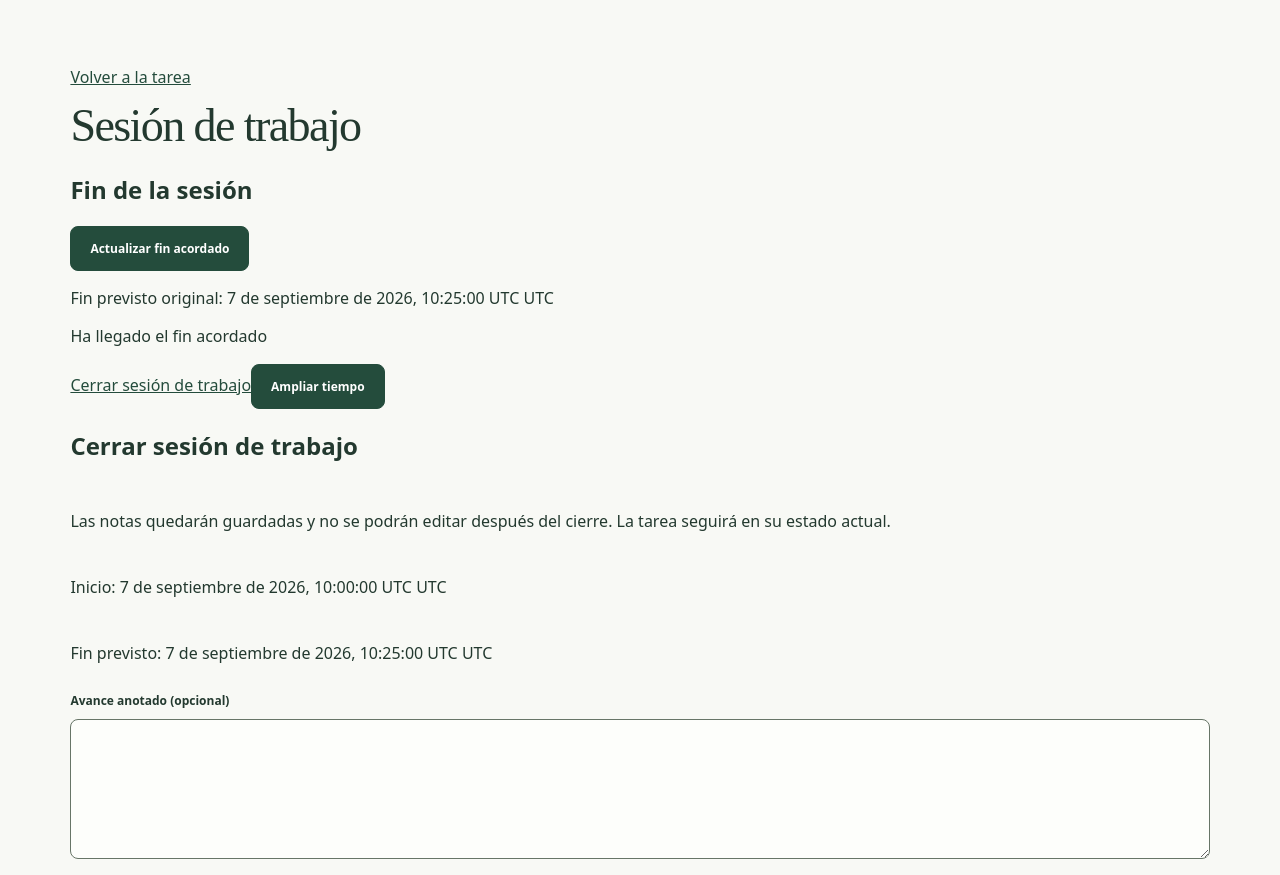
@s28 feature17 offers the end notice and a separate extension form on the known session route
Check: the text "Ha llegado el fin acordado" is shown, box [70,325,267,347]
Check: the heading "Fin de la sesión" is shown, box [70,173,253,206]
Click the button "Ampliar tiempo" at (318, 387), box [251,364,385,409]
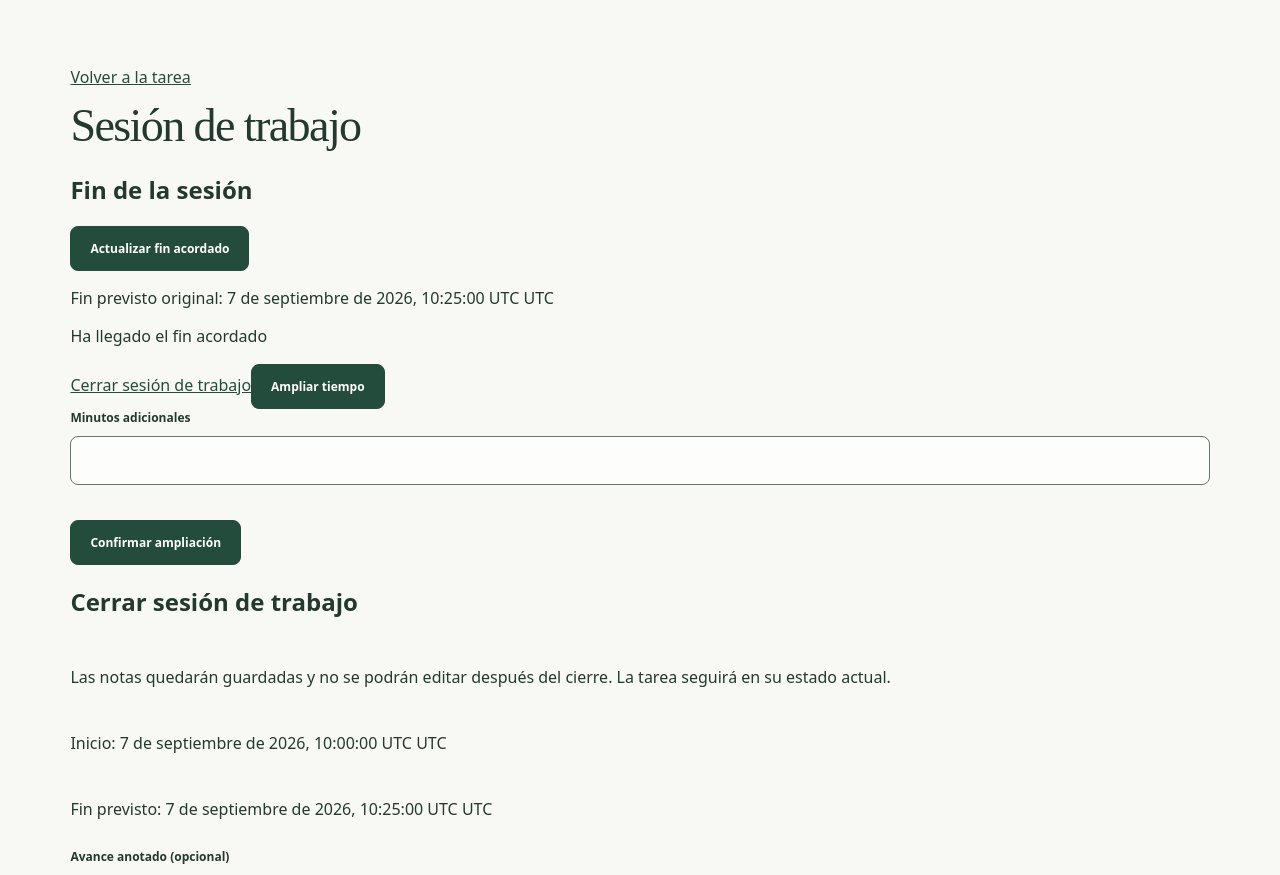
Check: the number field labelled "Minutos adicionales" is not empty, box [70,436,1210,485]
